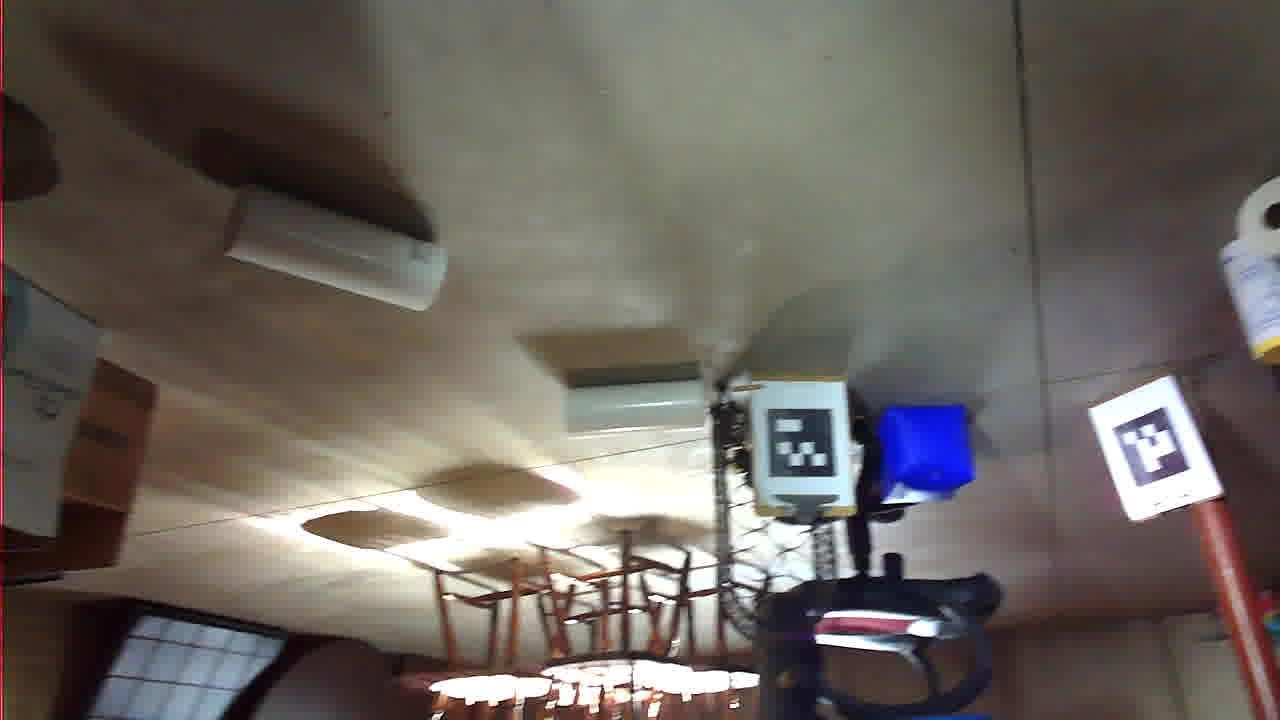coral: (834, 411, 1049, 532), (576, 287, 715, 338)
